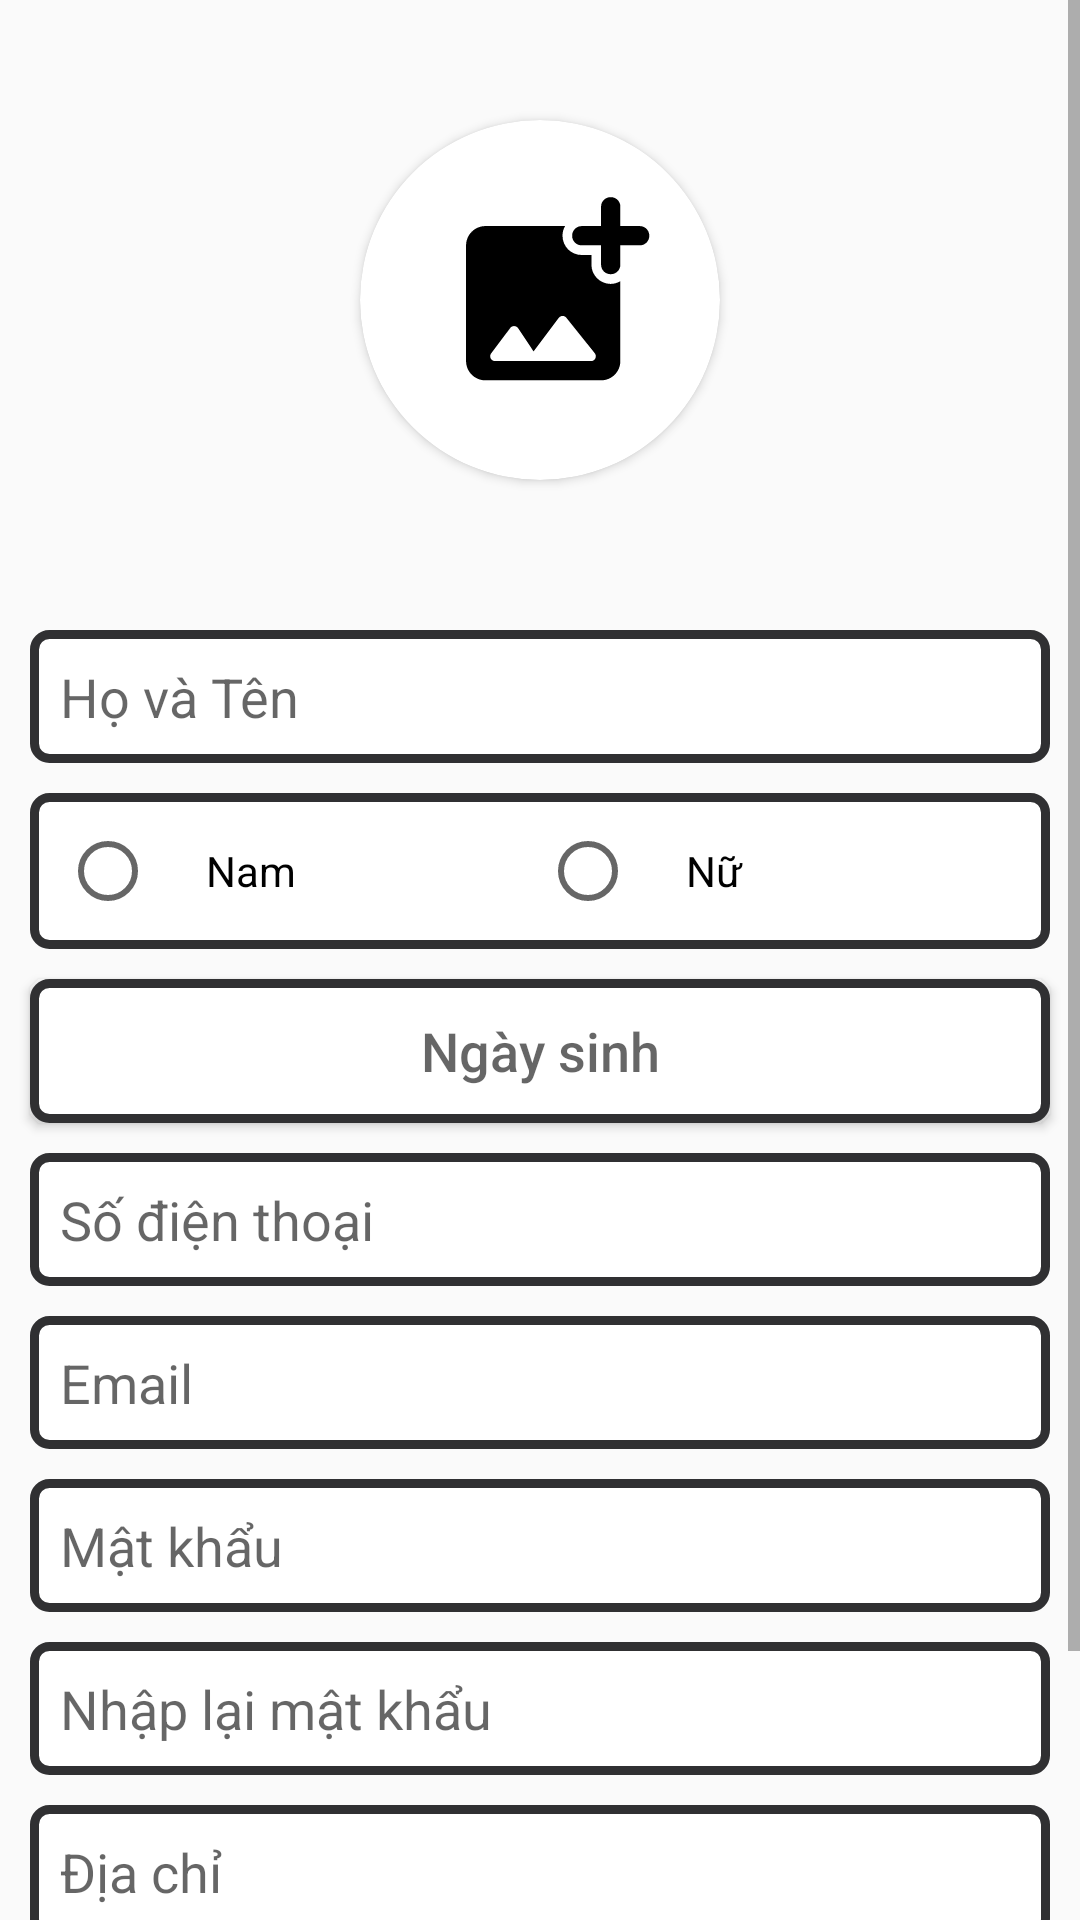

Screen size 1080px x 1920px. Icon name, then its center in pixels as [x,y]:
add photo alternate: [540,338]
